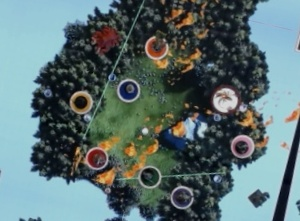blue: (114, 73, 145, 105)
green: (135, 162, 166, 192)
orange: (141, 30, 172, 61)
pink: (227, 132, 260, 162)
red: (83, 142, 112, 172)
violet: (168, 180, 198, 212)
yellow: (65, 84, 98, 116)
